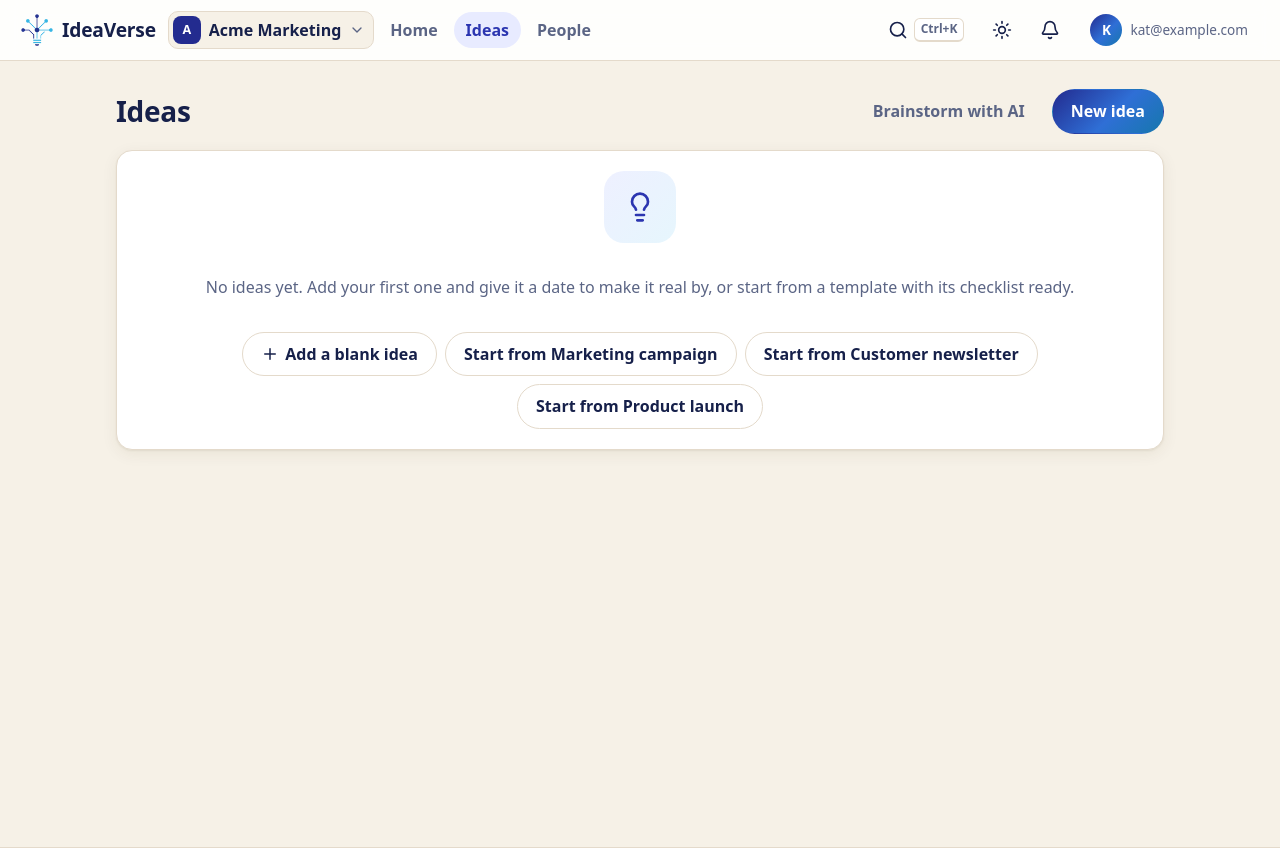
Test: AI help › brainstorms ideas and opens one as a new idea
Click the button "Brainstorm with AI" at (949,111), box x1=854 y1=89 x2=1044 y2=134
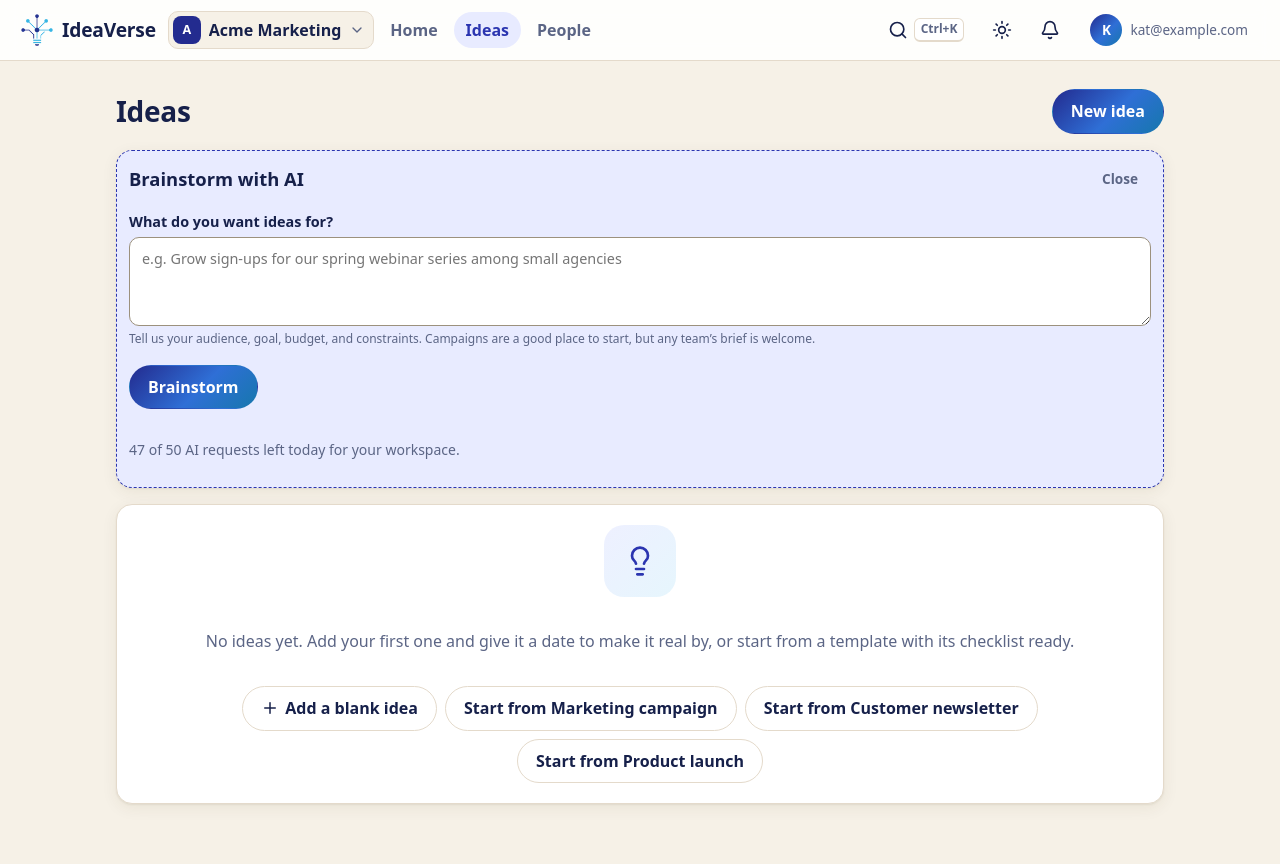
Expected: the text "47 of 50 AI requests left today for your workspace." is shown, x1=129 y1=440 x2=460 y2=459
Type "More webinar sign-ups" into the text box labelled "What do you want ideas for?" at (640,282), box x1=129 y1=237 x2=1151 y2=326
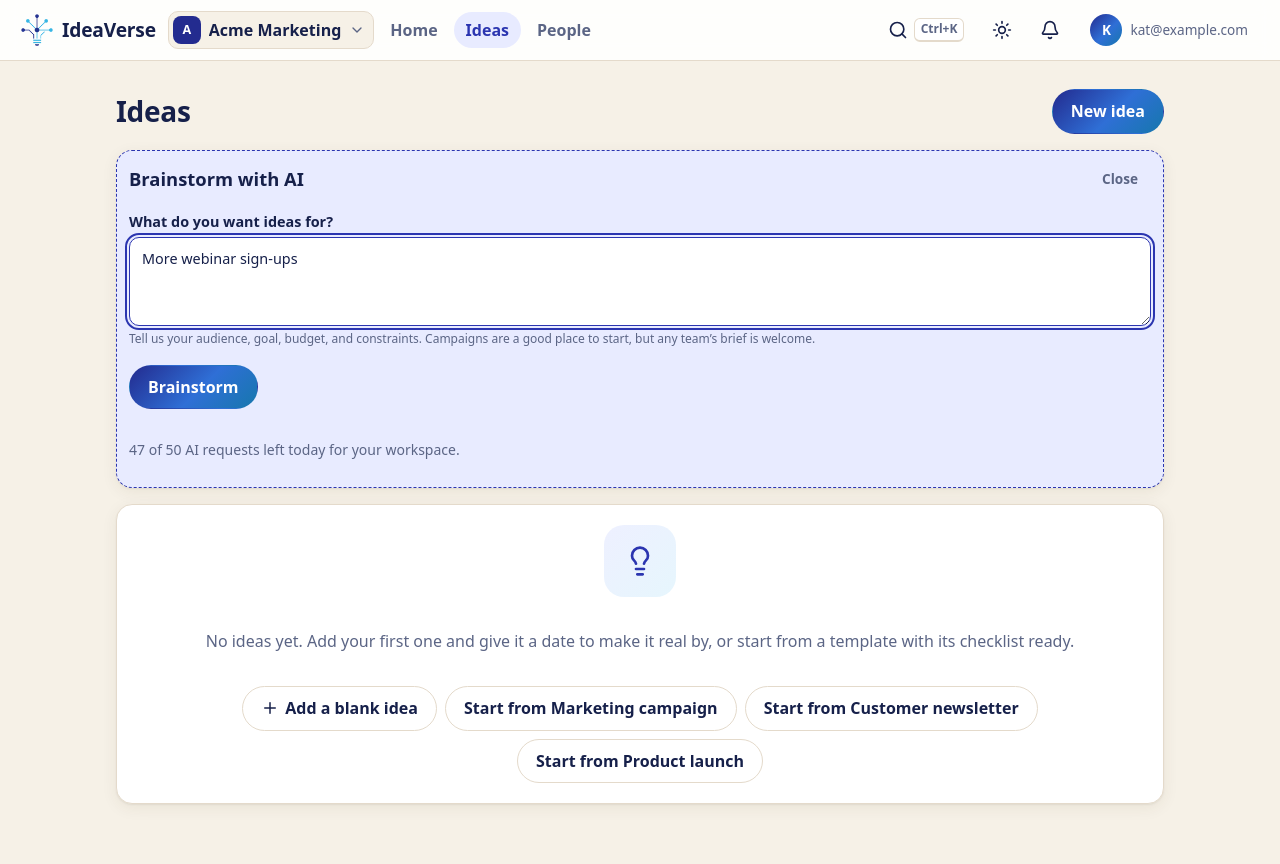
Click the button "Brainstorm" at (193,387), box x1=129 y1=365 x2=258 y2=409
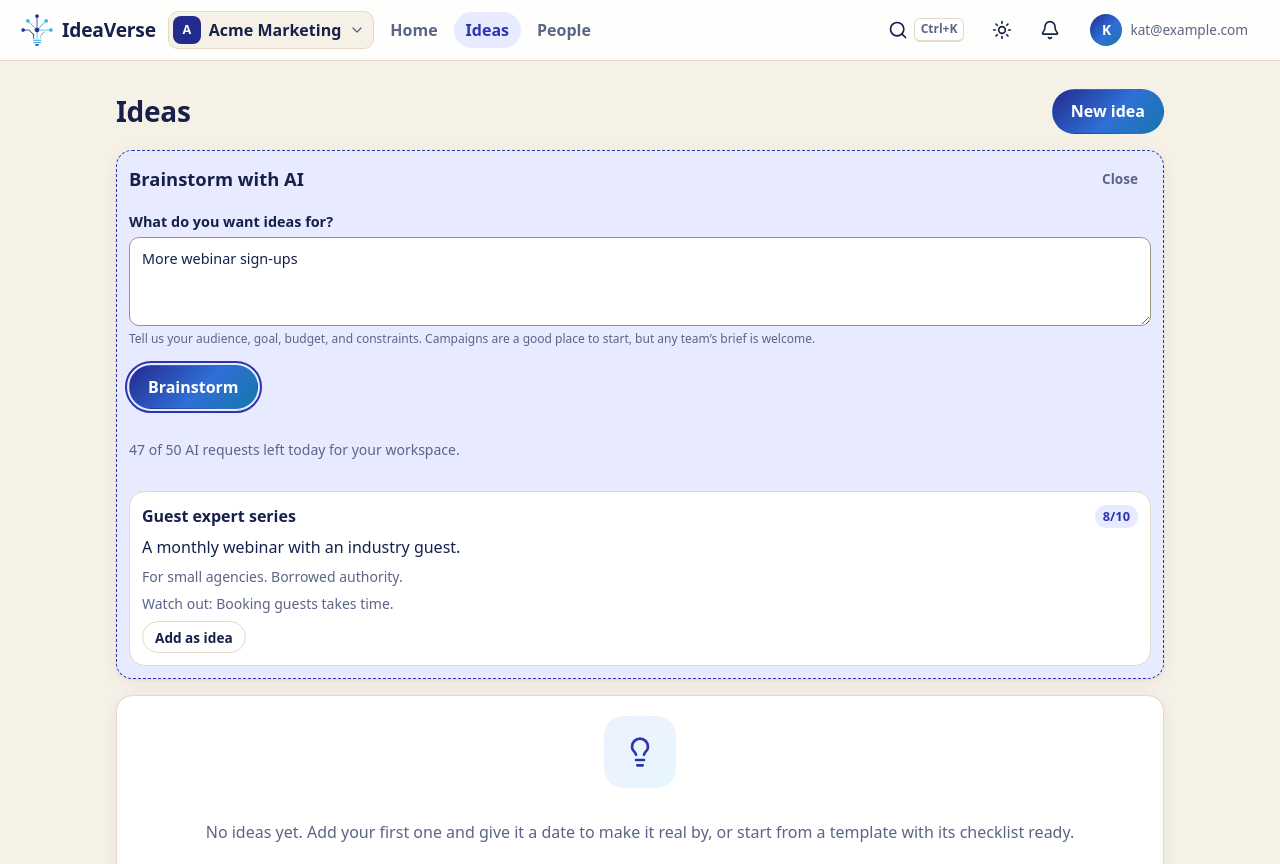
Click the button with aria-label "Add Guest expert series" at (194,637), box x1=142 y1=621 x2=246 y2=653
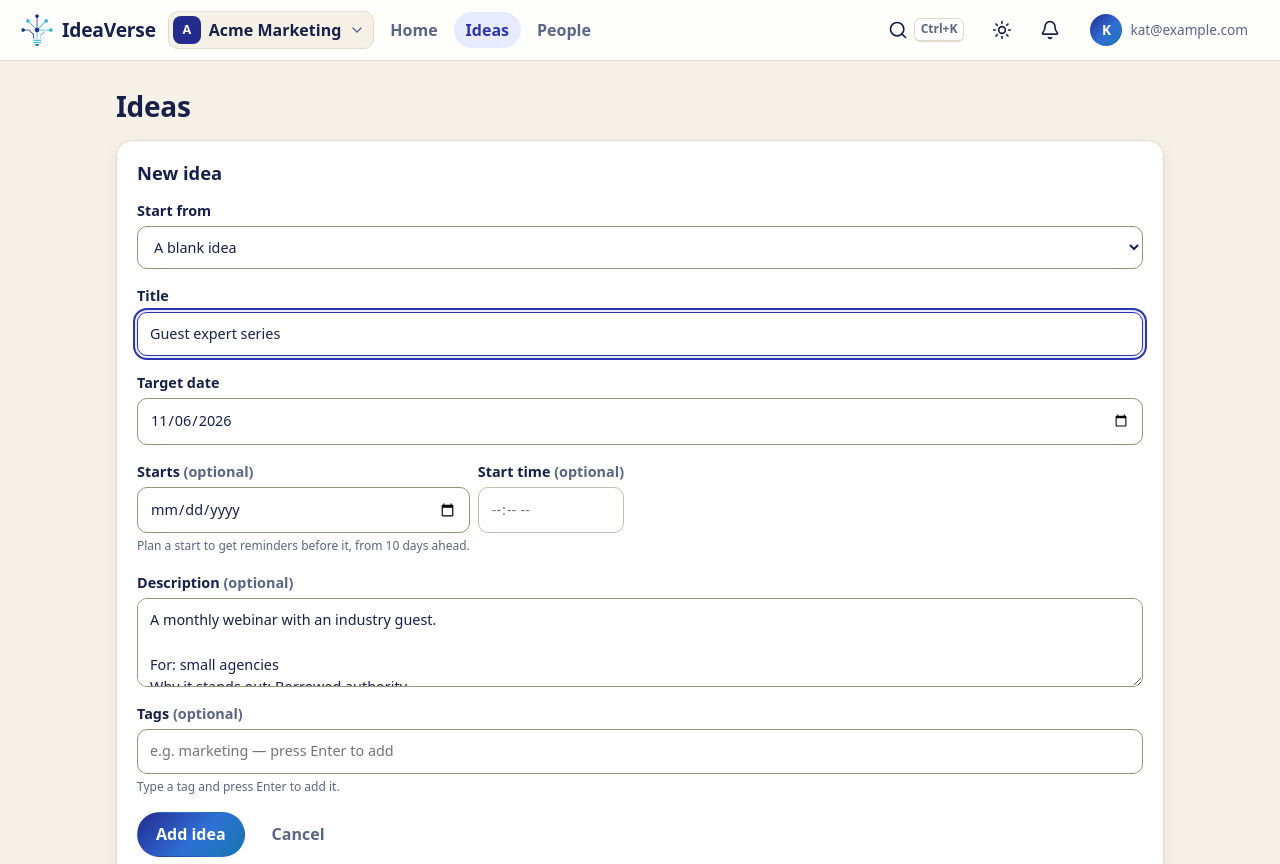
Expected: the field labelled "Title" holds "Guest expert series", x1=137 y1=312 x2=1143 y2=356
